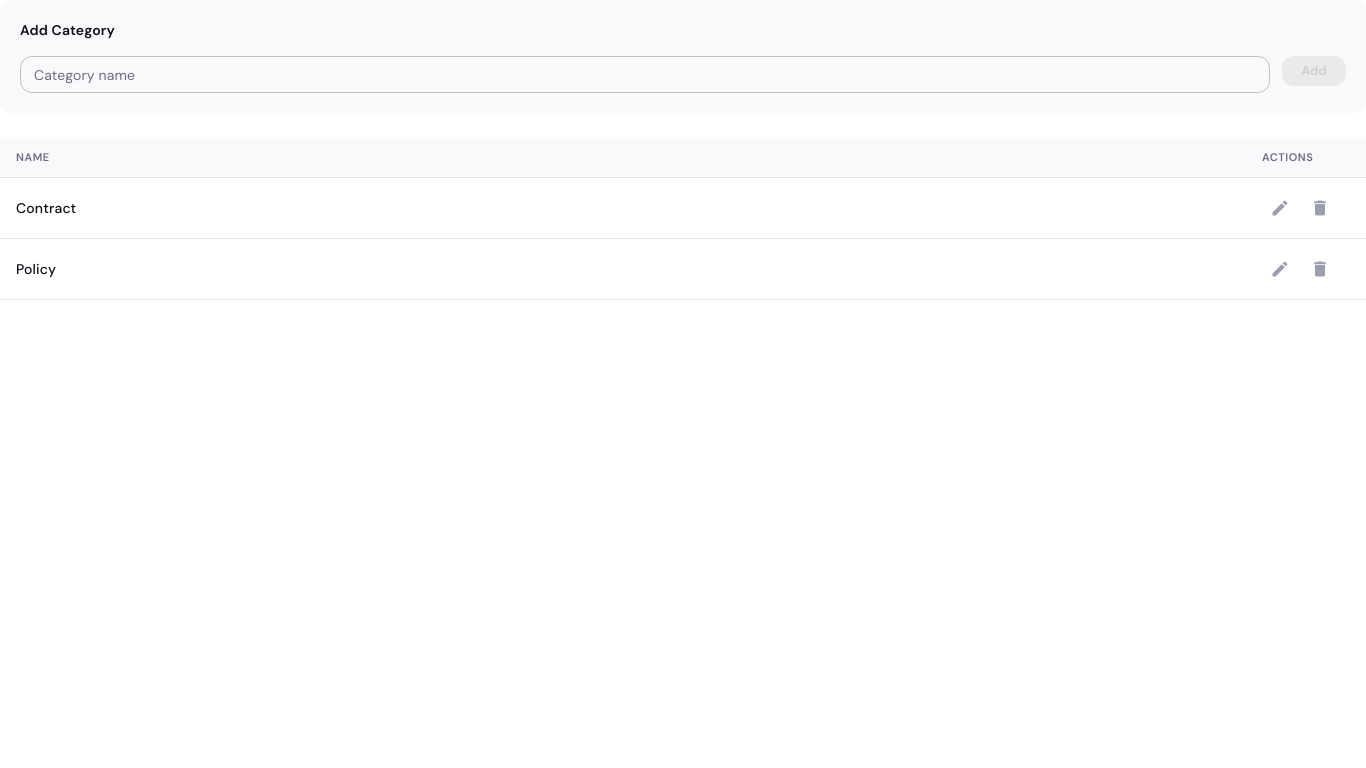
it: CategoryManager › shows loading in delete button when pending
Click the button named "Delete Contract" at (1320, 208), box [1302,190,1338,226]
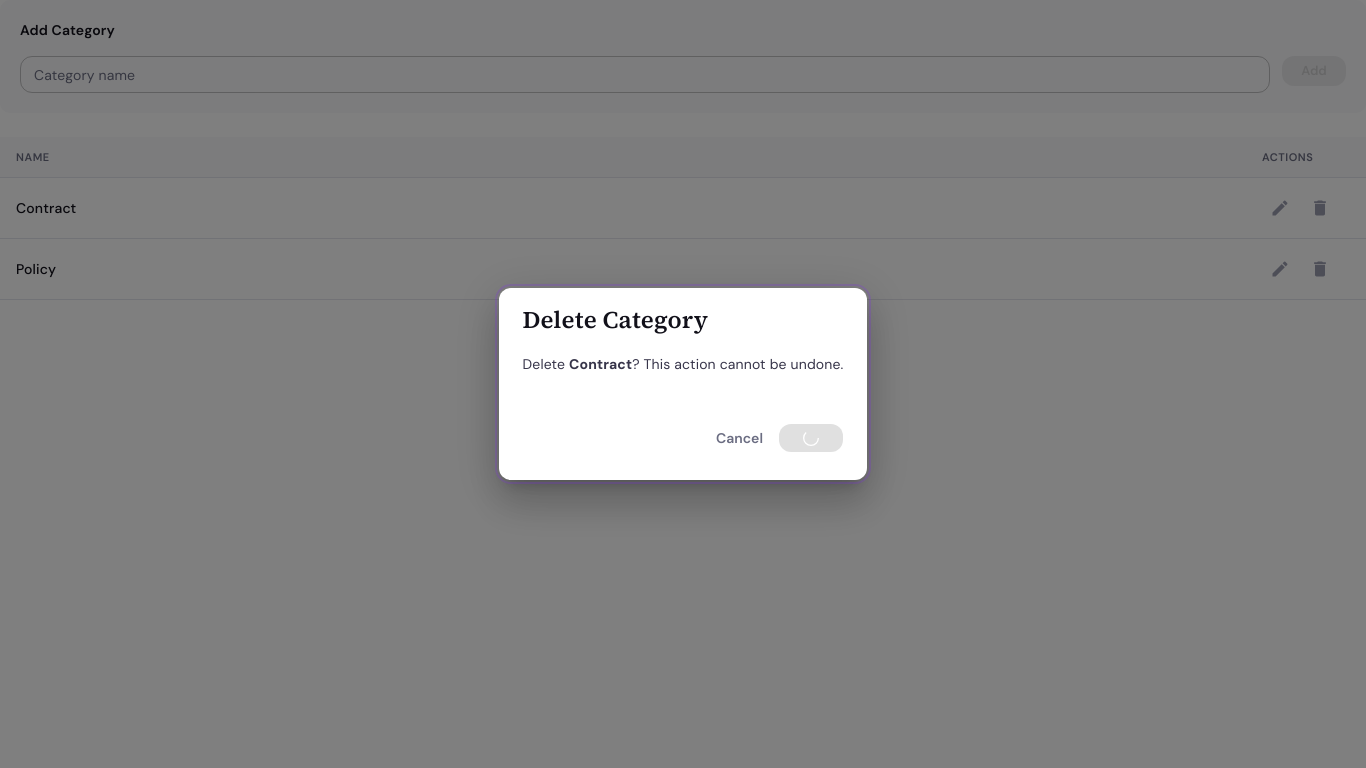
Expected: the 2nd button is disabled, [780,424,844,452]
Expected: the progress indicator is shown, [804,430,820,446]
